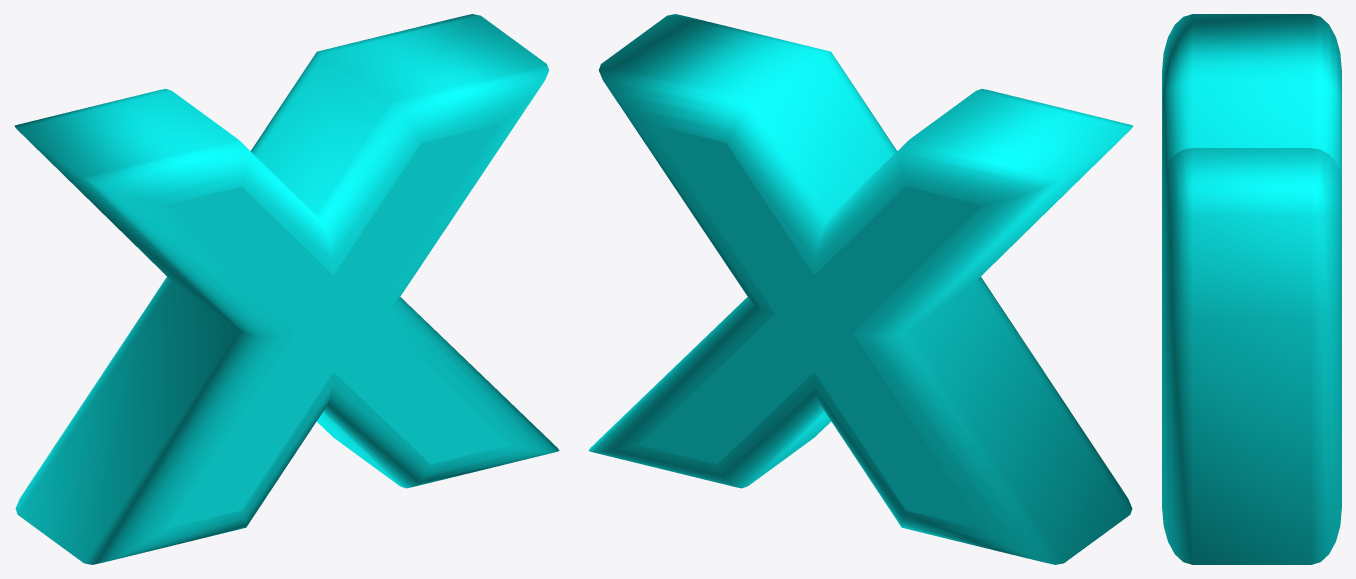
The picture shows the model from 3 angles, left to right: view 1: azimuth 30°, elevation 25°; view 2: azimuth 150°, elevation 25°; view 3: azimuth 270°, elevation 25°; orthographic projection. The views are drawn at different scales.
Visible parts, largest first — view 1: Text; view 2: Text; view 3: Text.
Part boxes in pixels (x1,y1,x2,y2): Text: (14,14,559,564); Text: (588,14,1133,564); Text: (1162,14,1341,564).
Bounding box in the file's own units: 2.07 × 1.61 × 0.76.
